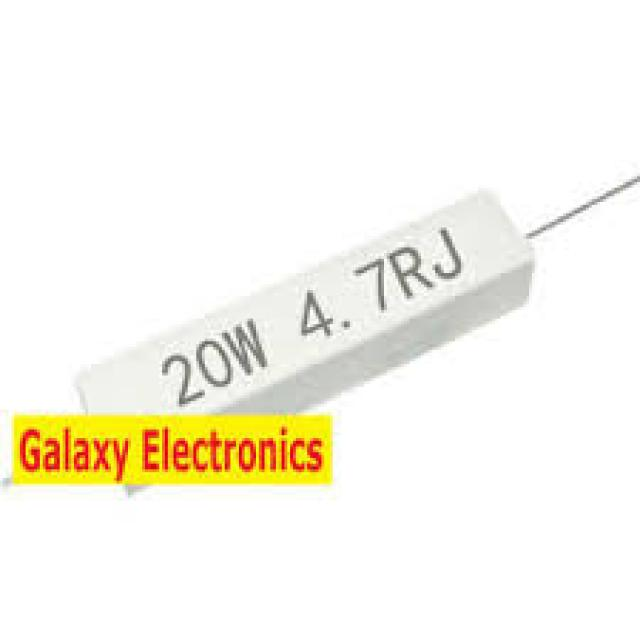Resistor: (85, 192, 517, 419)
